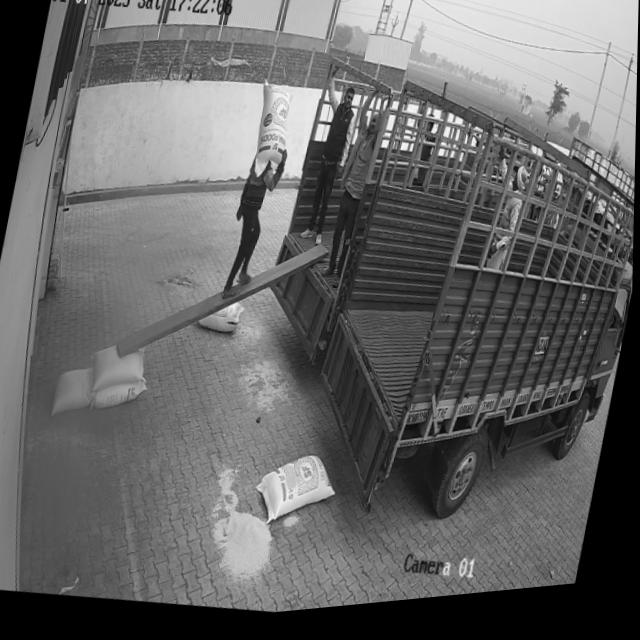sack: (252, 450, 342, 539), (245, 83, 297, 188), (86, 339, 148, 401), (51, 365, 98, 423), (92, 374, 149, 418), (198, 300, 246, 343)
